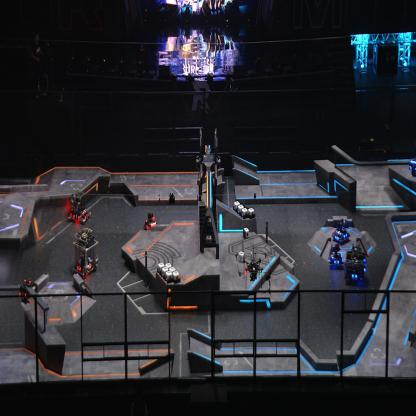car: (71, 229, 99, 277), (344, 244, 366, 284), (67, 189, 91, 225), (332, 216, 350, 243), (327, 244, 345, 269), (143, 212, 158, 232)
